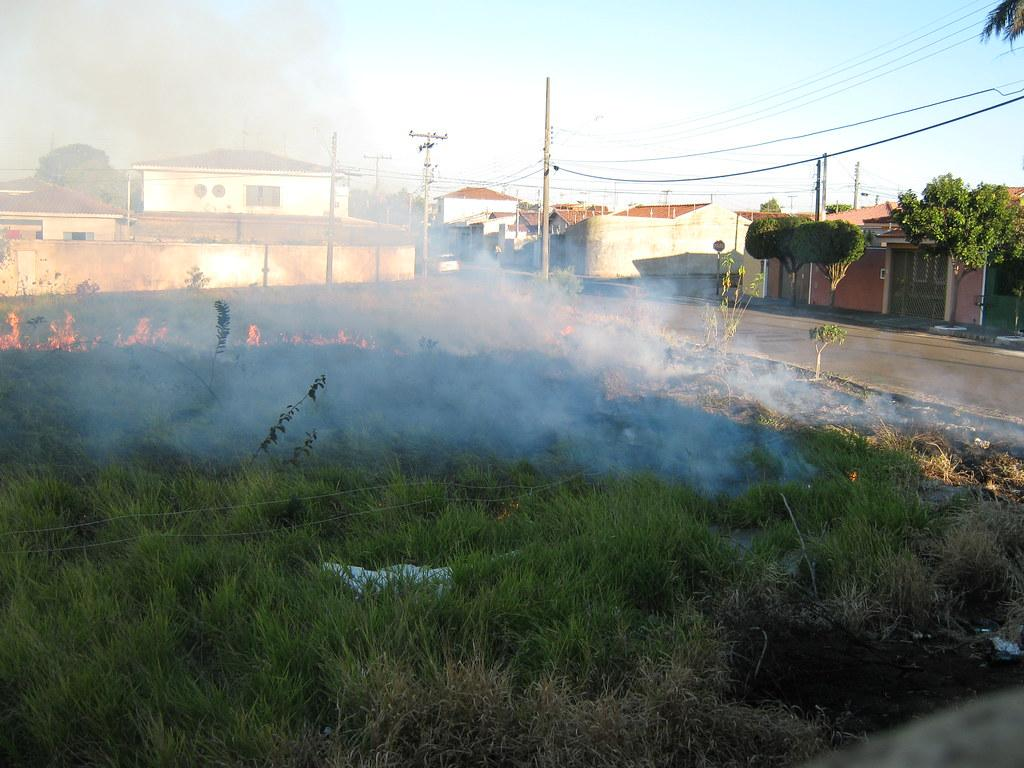smoke: (338, 348, 576, 448)
